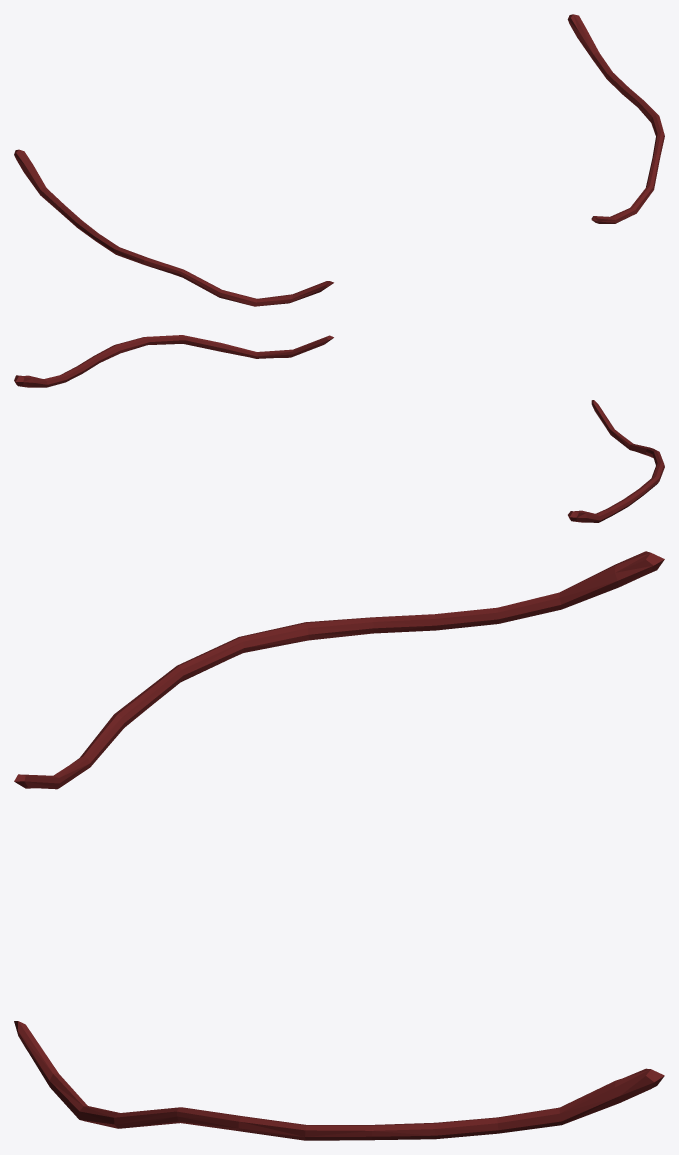
File: Artéria Infraorbitaria.FBX
3 renders of one model, top to bottom at view 1: azimuth 30°, elevation 25°; view 2: azimuth 150°, elevation 25°; view 3: azimuth 270°, elevation 25°, orthographic. The views are drawn at different scales.
Visible parts, largest first — view 1: CS_Arterie; view 2: CS_Arterie; view 3: CS_Arterie.
Boxes of the visible parts, x1,y1,x2,y2 form: CS_Arterie: (14, 14, 664, 306); CS_Arterie: (14, 335, 664, 522); CS_Arterie: (14, 551, 664, 1140).
Bounding box in the file's own units: 439 × 51.85 × 230.
